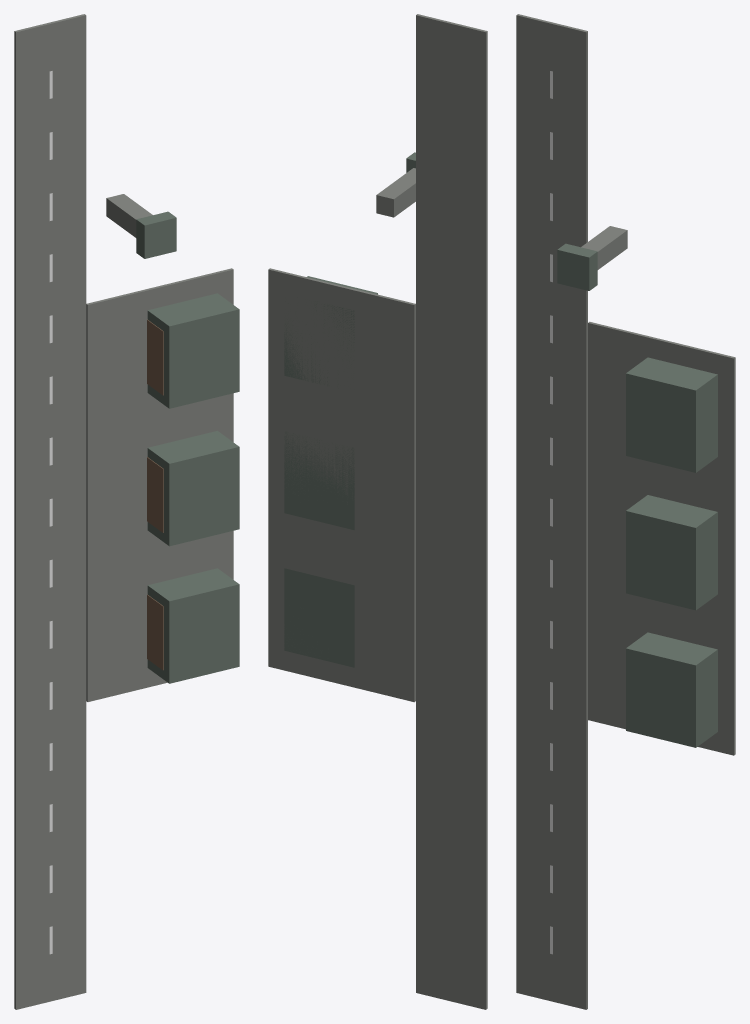
The model's file is shape_021_SVN_Airbase.glb.
3 views of the same model, side by side, from view 1: azimuth 30°, elevation 25°; view 2: azimuth 150°, elevation 25°; view 3: azimuth 330°, elevation 25° (orthographic).
Visible parts, largest first — view 1: Runway, Apron, Hangar.002, Hangar, Hangar.001, Tower cabin, Hangar door, Hangar door.002, Hangar door.001, Tower; view 2: Runway, Apron, Hangar, Hangar.001, Hangar.002, Tower; view 3: Runway, Apron, Hangar, Hangar.001, Hangar.002, Tower cabin, Tower.
Boxes of the visible parts, x1,y1,x2,y2 form: Runway: [14, 14, 86, 1009]; Apron: [86, 268, 233, 701]; Hangar.002: [147, 293, 239, 408]; Hangar: [147, 568, 239, 683]; Hangar.001: [147, 431, 239, 546]; Tower cabin: [136, 211, 176, 258]; Hangar door: [147, 594, 163, 670]; Hangar door.002: [147, 319, 163, 395]; Hangar door.001: [147, 457, 163, 532]; Tower: [106, 194, 152, 237]; Runway: [416, 14, 487, 1009]; Apron: [268, 268, 415, 702]; Hangar: [284, 568, 354, 667]; Hangar.001: [284, 431, 354, 530]; Hangar.002: [284, 276, 377, 388]; Tower: [376, 168, 415, 217]; Runway: [516, 14, 587, 1009]; Apron: [588, 321, 735, 755]; Hangar: [626, 632, 717, 747]; Hangar.001: [626, 495, 717, 610]; Hangar.002: [626, 357, 717, 472]; Tower cabin: [557, 243, 597, 290]; Tower: [581, 226, 627, 269].
Bounding box in the file's own units: 238 × 1024 × 86.4.
